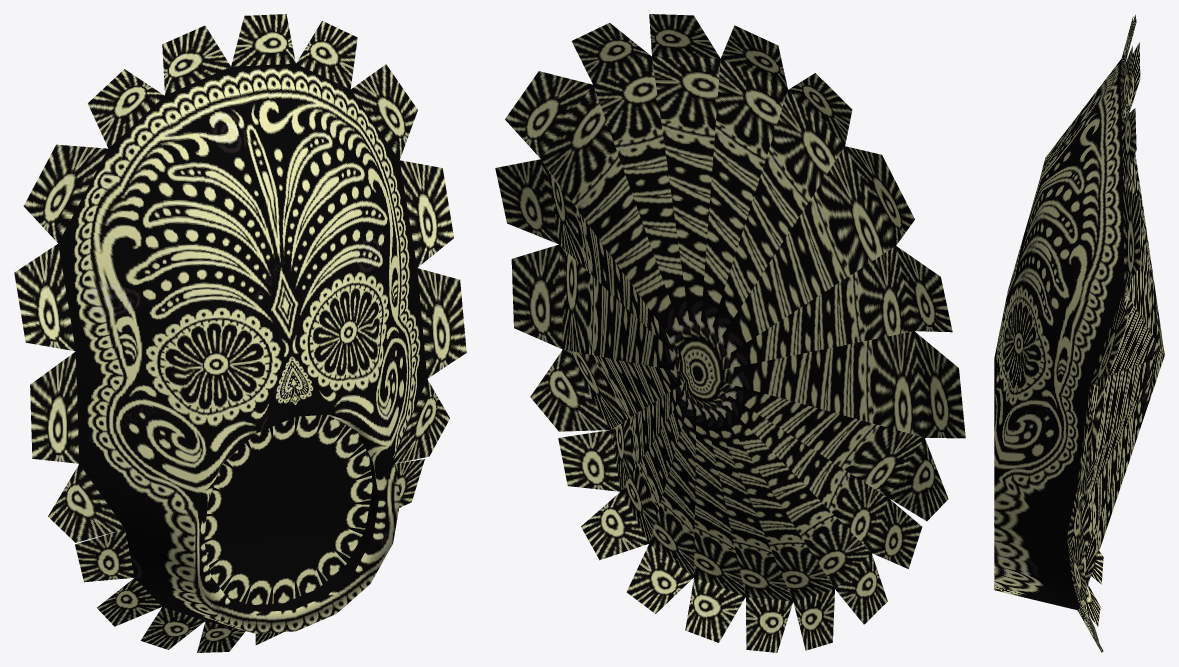
File: fanHead.fbx
3 renders of one model, left to right at view 1: azimuth 30°, elevation 25°; view 2: azimuth 150°, elevation 25°; view 3: azimuth 270°, elevation 25°, orthographic. The views are drawn at different scales.
Visible parts, largest first — view 1: pCube1; view 2: pCube1; view 3: pCube1.
Boxes of the visible parts, <box> form: pCube1: <box>14,14,466,652</box>; pCube1: <box>495,14,965,652</box>; pCube1: <box>994,14,1164,652</box>.
Bounding box in the file's own units: 1.49 × 2.01 × 0.5209.
Materials: 1 (1 with a texture image).
